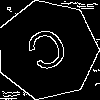C: (22, 25, 76, 82)
